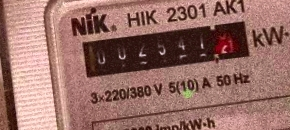0: (93, 44, 108, 66), (113, 40, 128, 62)
1: (193, 28, 207, 52)
2: (133, 36, 149, 59)
4: (174, 30, 187, 52)
5: (153, 34, 168, 58)
6: (217, 41, 230, 54)
screen: (68, 10, 262, 86)
